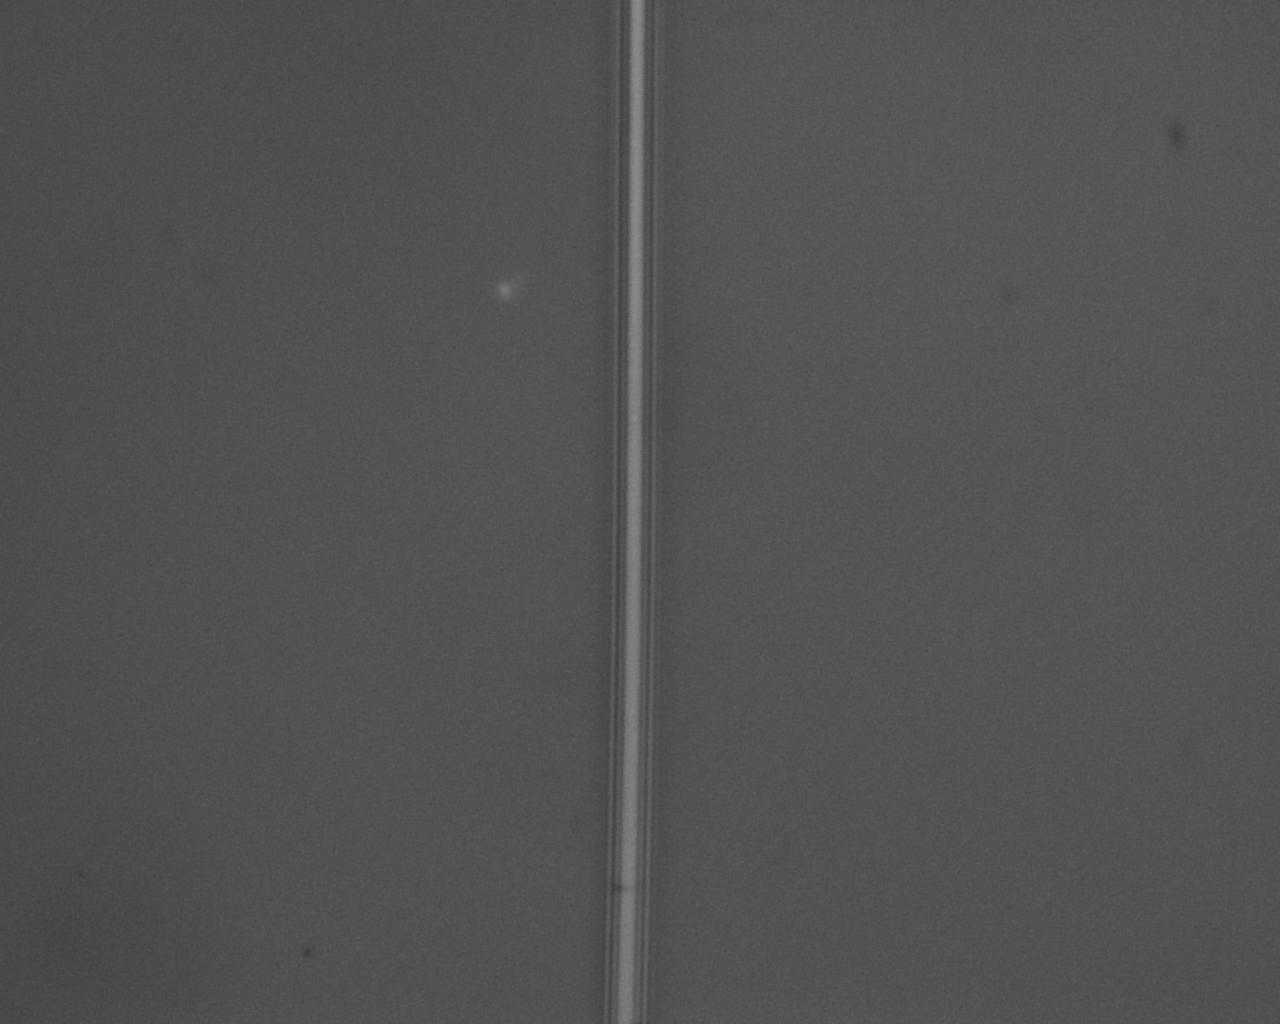fiber: (0, 178, 685, 655), (349, 655, 629, 1024), (829, 196, 1280, 364)
